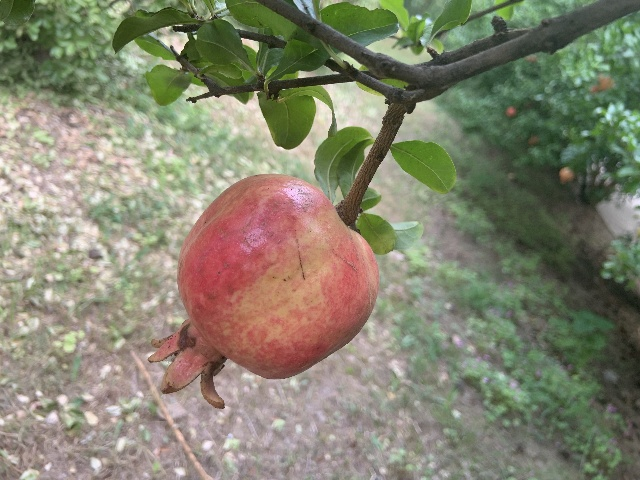ripe: (148, 173, 379, 409)
